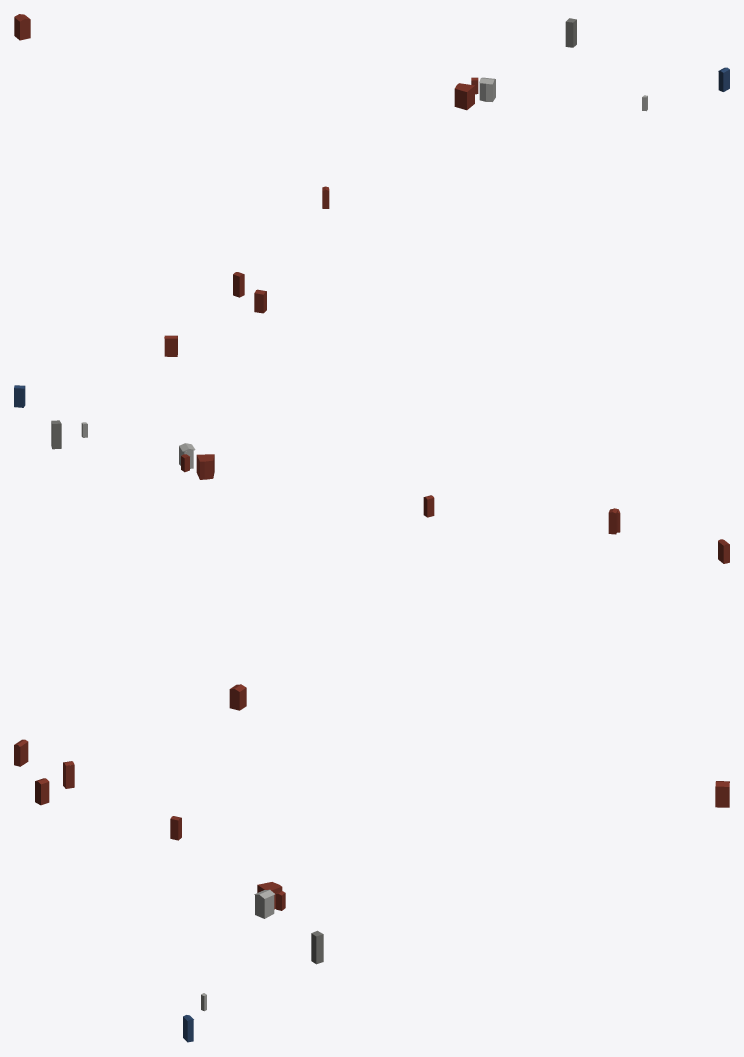
The model's file is near-15-27349-14862.5ad879fa.glb.
3 renders of one model, top to bottom at view 1: azimuth 30°, elevation 25°; view 2: azimuth 150°, elevation 25°; view 3: azimuth 270°, elevation 25°, orthographic. The views are drawn at different scales.
Size of the model in its own units: 623 by 99.08 by 546.
